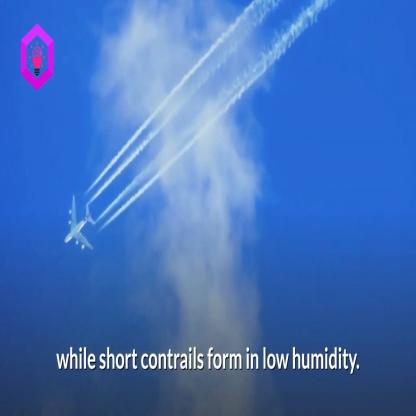plane: (59, 195, 104, 263)
